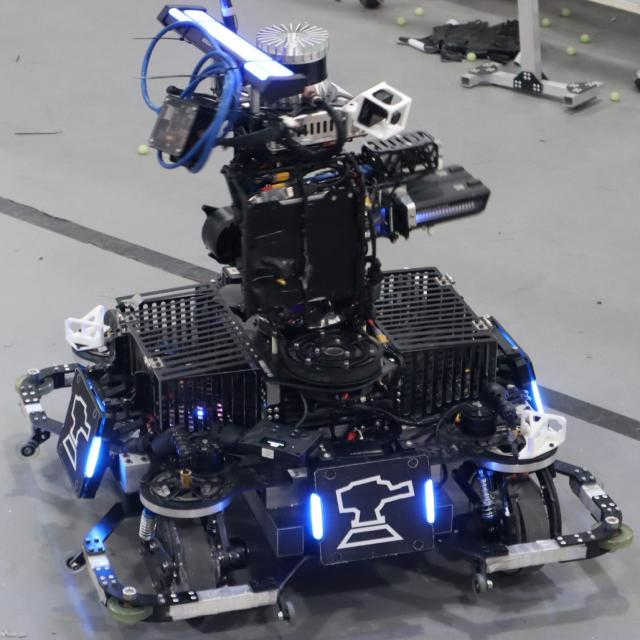Bs: (308, 467, 438, 556), (59, 382, 104, 488)
